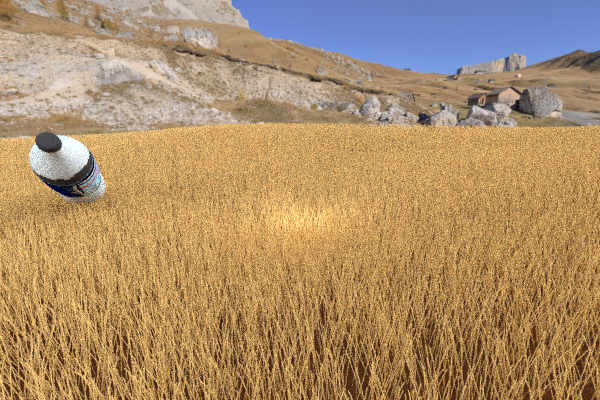Plastic Bottle: (330, 142, 600, 294), (29, 132, 105, 204), (185, 127, 207, 145)
